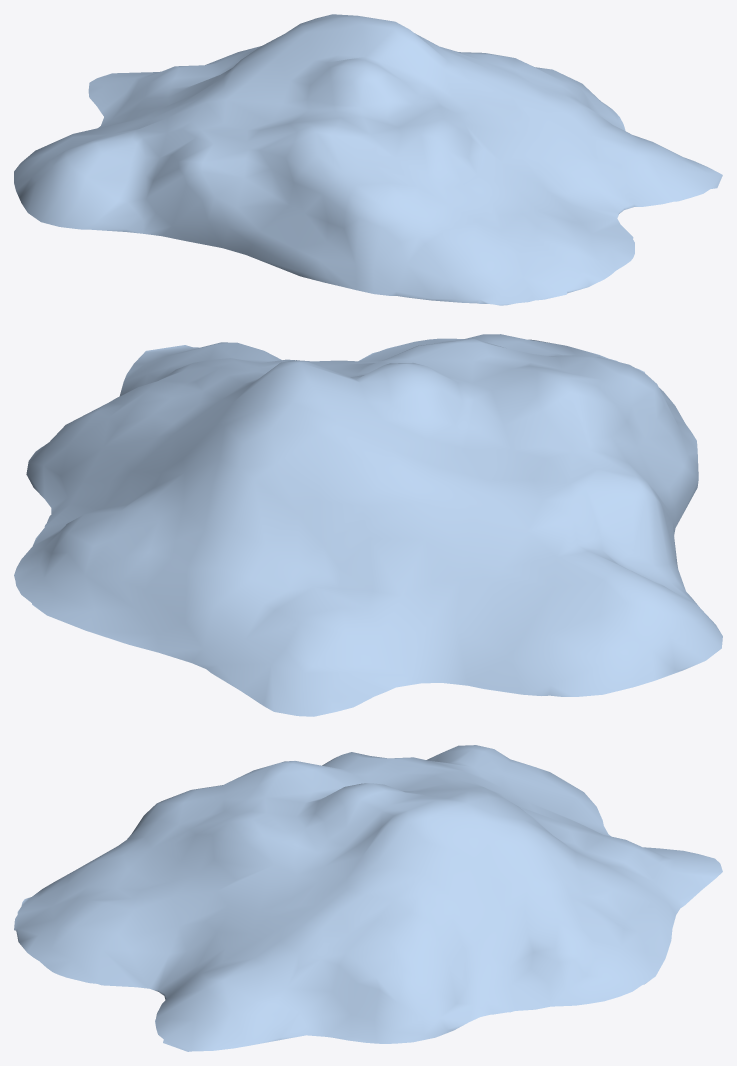
The model's file is IcePatchSmall_03_Bumpy.fbx.
The picture shows the model from 3 angles, top to bottom: view 1: azimuth 30°, elevation 25°; view 2: azimuth 150°, elevation 25°; view 3: azimuth 270°, elevation 25°; orthographic projection. The views are drawn at different scales.
Parts seen in each view (by area): view 1: IcePatchSmall_03_Bumpy.001; view 2: IcePatchSmall_03_Bumpy.001; view 3: IcePatchSmall_03_Bumpy.001.
Boxes of the visible parts, x1,y1,x2,y2 form: IcePatchSmall_03_Bumpy.001: [14, 14, 722, 305]; IcePatchSmall_03_Bumpy.001: [14, 334, 722, 716]; IcePatchSmall_03_Bumpy.001: [14, 745, 722, 1051].
Bounding box in the file's own units: 1.08 × 0.2272 × 1.13.
